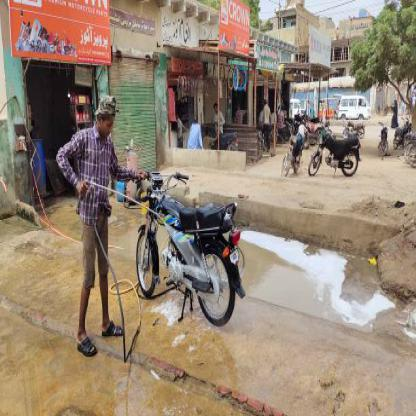Motorcycle: (129, 161, 246, 326)
